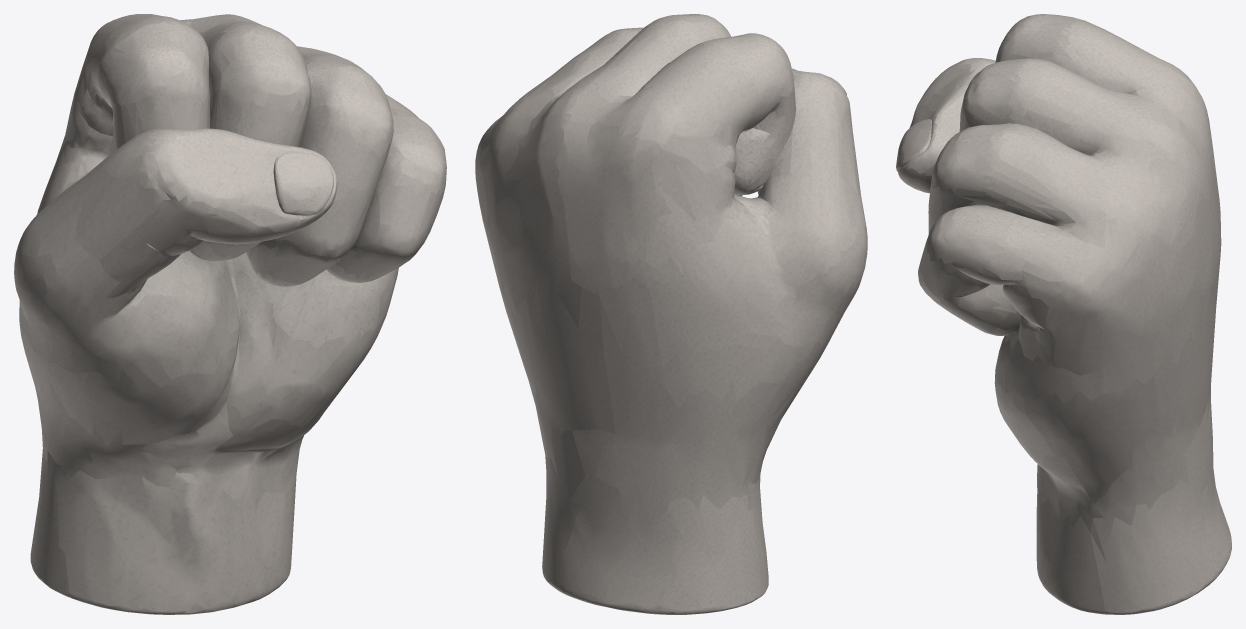
Rendered from mano_pugno.glb.
The picture shows the model from 3 angles, left to right: view 1: azimuth 30°, elevation 25°; view 2: azimuth 150°, elevation 25°; view 3: azimuth 270°, elevation 25°; orthographic projection. The views are drawn at different scales.
Visible parts, largest first — view 1: Mesh_0; view 2: Mesh_0; view 3: Mesh_0.
Boxes of the visible parts, x1=… form: Mesh_0: x1=14, y1=14, x2=446, y2=614; Mesh_0: x1=475, y1=14, x2=867, y2=614; Mesh_0: x1=896, y1=14, x2=1231, y2=614.
Bounding box in the file's own units: 1.36 × 1.9 × 1.1.
Materials: 1 (1 with a texture image).
